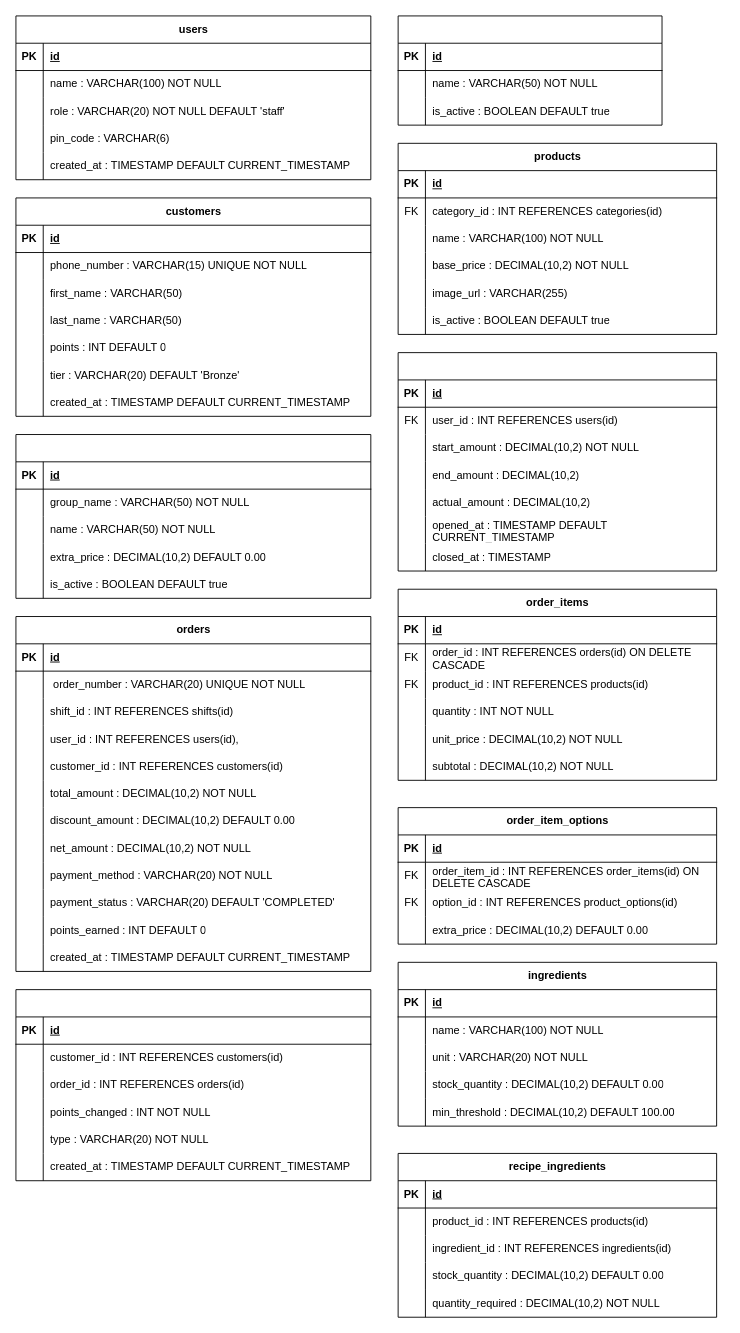
Image size: 740x1333. Some labels were removed from this diagram. Here are the shapes that lost their labels. From the top down, the box of each, then its label:
(397, 15, 662, 125): categories
(397, 352, 717, 571): shifts
(15, 434, 371, 598): product_options
(15, 989, 371, 1181): point_logs
